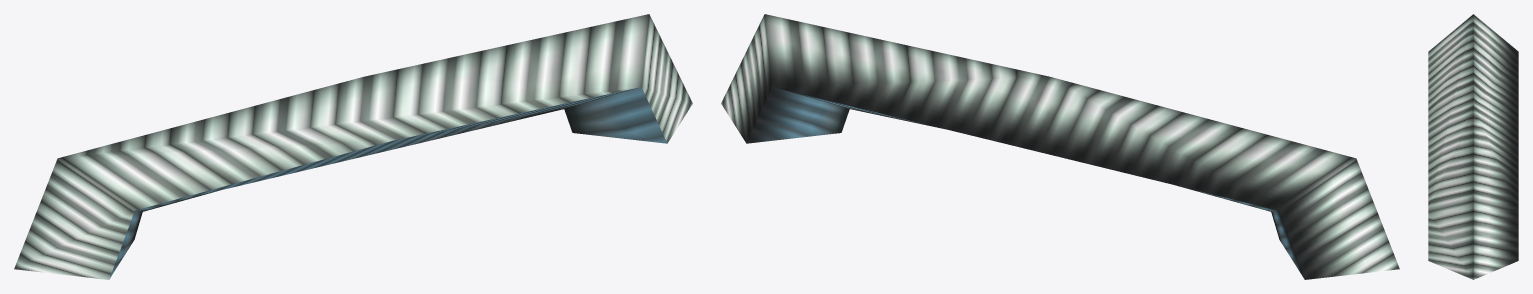
Rendered from pipe.glb.
3 views of the same model, side by side, from view 1: azimuth 30°, elevation 25°; view 2: azimuth 150°, elevation 25°; view 3: azimuth 270°, elevation 25° (orthographic). The views are drawn at different scales.
Visible parts, largest first — view 1: pipe; view 2: pipe; view 3: pipe.
Boxes of the visible parts, x1,y1,x2,y2 form: pipe: [14, 14, 692, 279]; pipe: [721, 14, 1399, 279]; pipe: [1428, 14, 1518, 279].
Size of the model in its own units: 600 by 90.45 by 106.
1 material, 1 textured.
